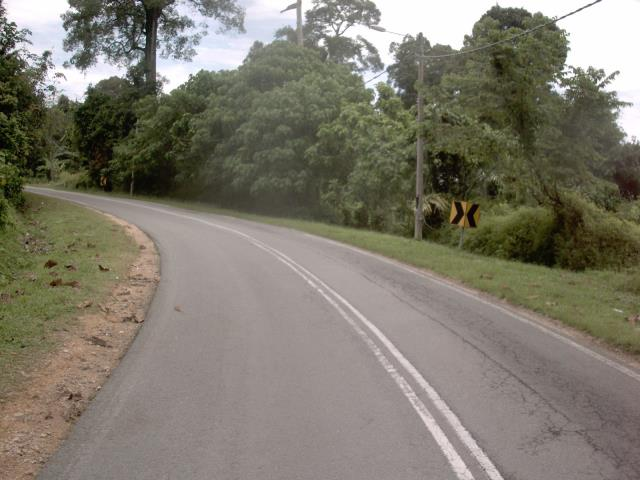traffic_sign: (445, 194, 466, 229), (465, 196, 484, 232)
